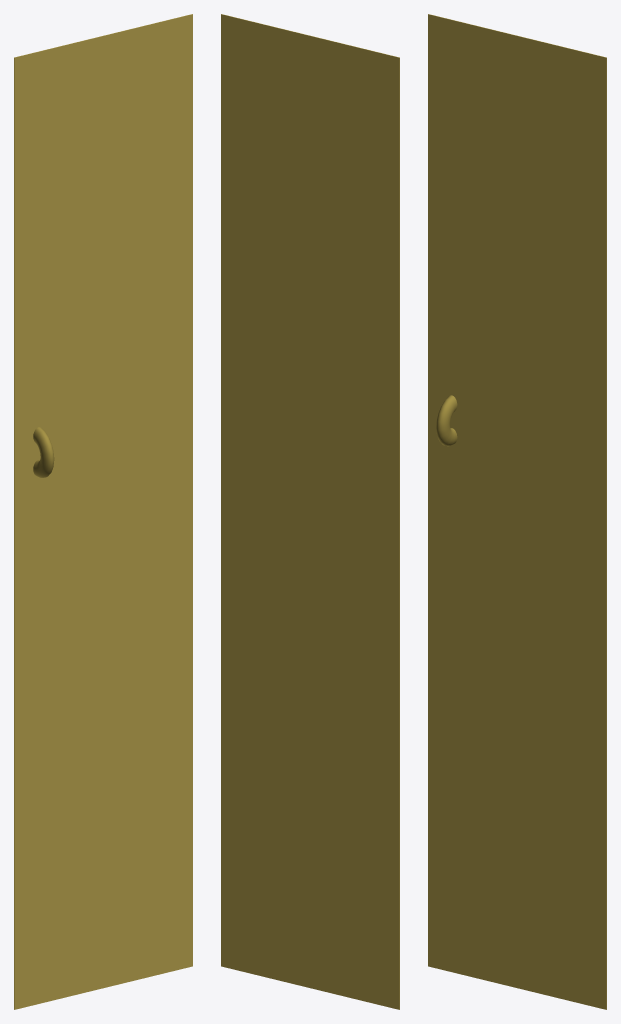
Rendered from puertaDer.obj.
The picture shows the model from 3 angles, left to right: view 1: azimuth 30°, elevation 25°; view 2: azimuth 150°, elevation 25°; view 3: azimuth 330°, elevation 25°; orthographic projection.
Visible parts, largest first — view 1: initialShadingGroup pCube19, pCube19; view 2: initialShadingGroup pCube19; view 3: initialShadingGroup pCube19, pCube19.
Boxes of the visible parts, x1=… form: initialShadingGroup pCube19: x1=14, y1=14, x2=192, y2=1009; pCube19: x1=33, y1=427, x2=54, y2=477; initialShadingGroup pCube19: x1=221, y1=14, x2=399, y2=1009; initialShadingGroup pCube19: x1=428, y1=14, x2=606, y2=1009; pCube19: x1=436, y1=395, x2=457, y2=446.
Bounding box in the file's own units: 0.31 × 1.58 × 0.0417.
Materials: 2 (2 with a texture image).
